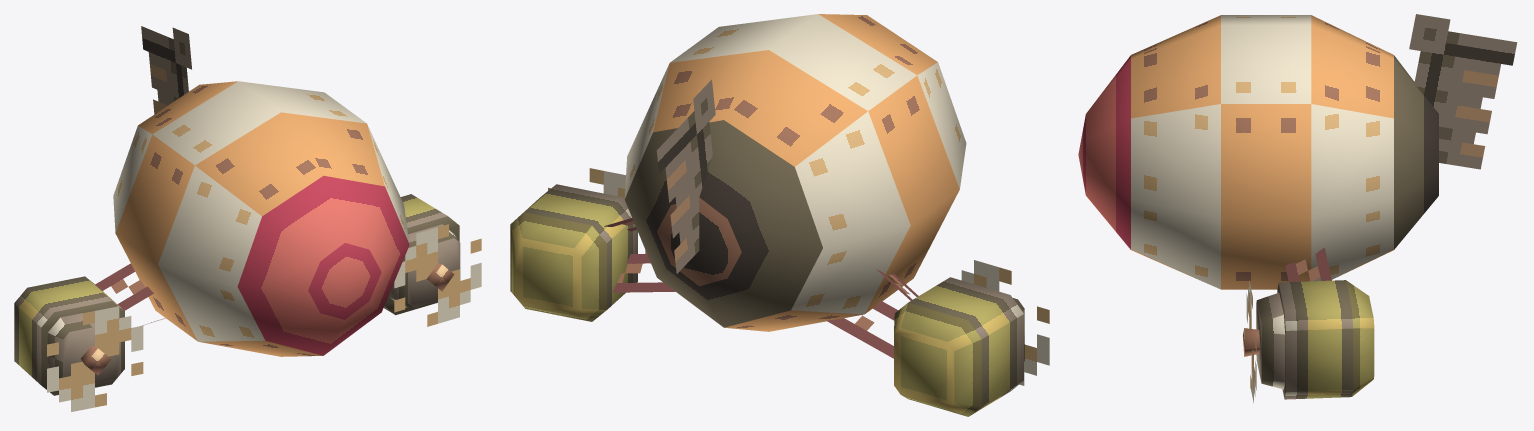
File: blimp.fbx
The picture shows the model from 3 angles, left to right: view 1: azimuth 30°, elevation 25°; view 2: azimuth 150°, elevation 25°; view 3: azimuth 270°, elevation 25°; orthographic projection. The views are drawn at different scales.
Parts seen in each view (by area): view 1: Blimp; view 2: Blimp; view 3: Blimp.
Boxes of the visible parts, x1,y1,x2,y2 form: Blimp: (14,26,481,411); Blimp: (510,14,1049,416); Blimp: (1078,14,1517,403).
Bounding box in the file's own units: 707 × 427 × 587.
Materials: 1 (1 with a texture image).
